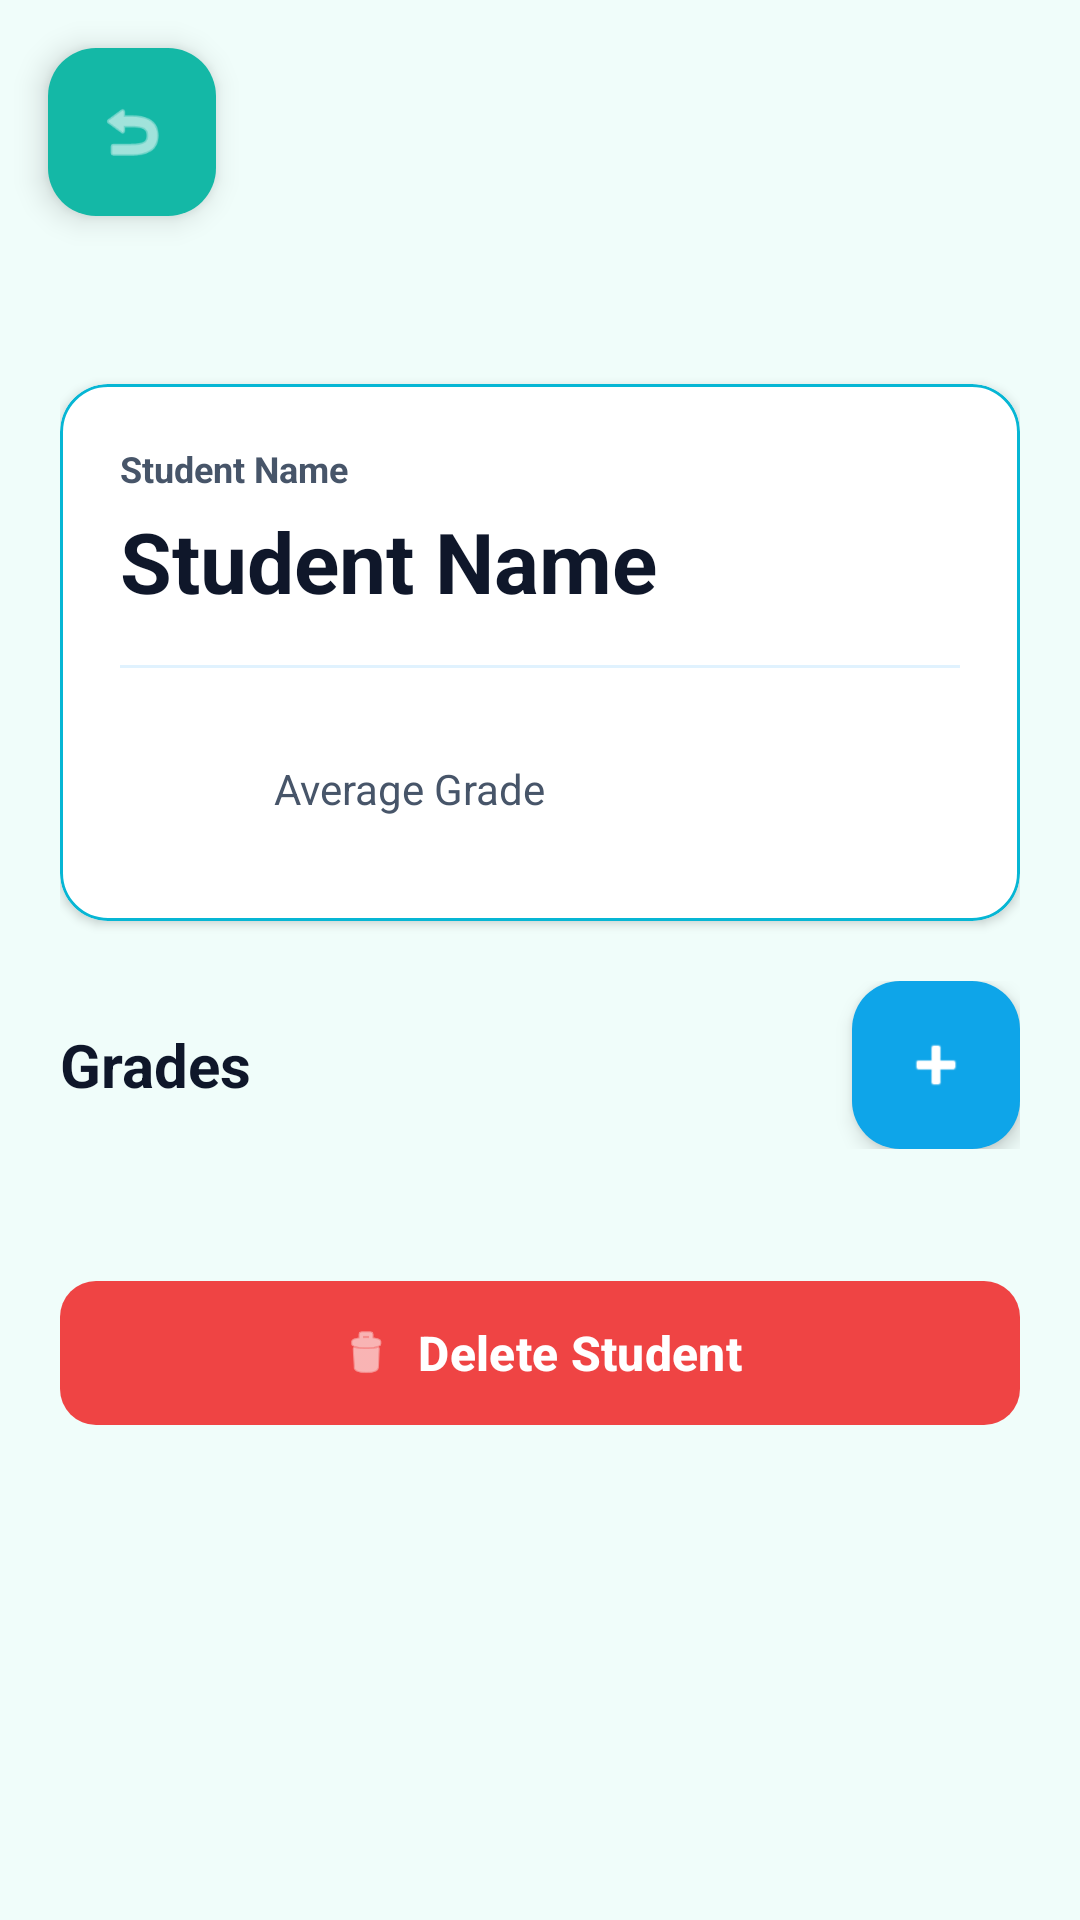

Named icons in this screenshot (1080w x 1920h) and their centers, (x=x, y=y):
Add Grade: (x=936, y=1065)
Cancel: (x=132, y=132)
